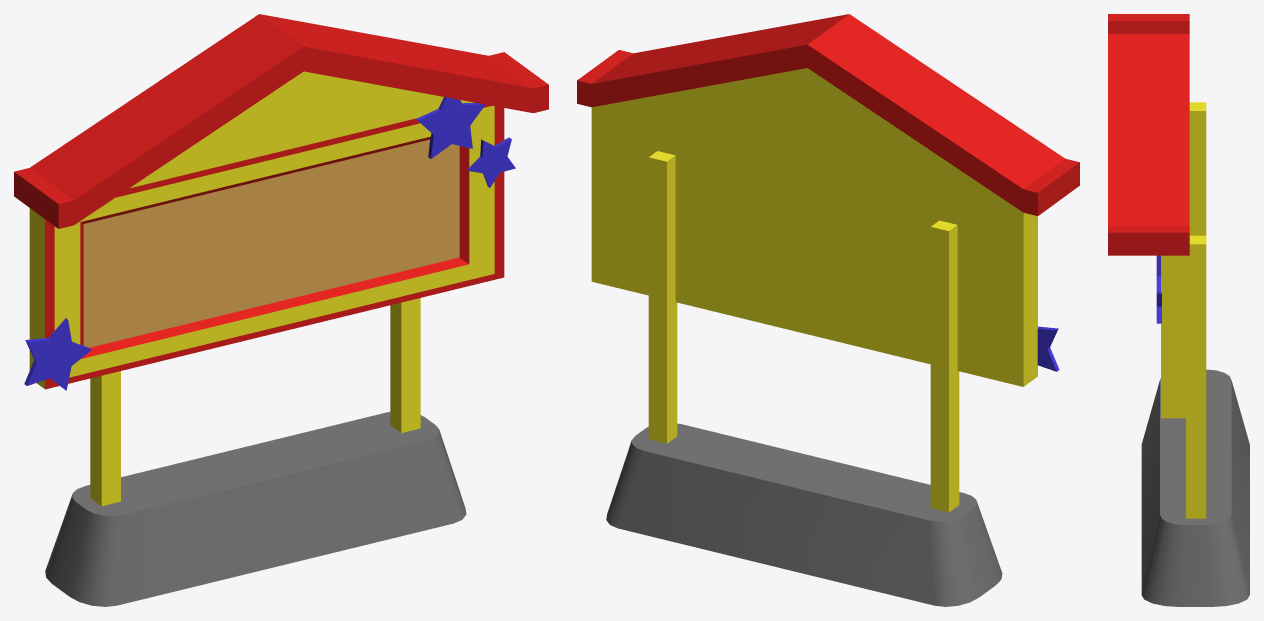
Rendered from announcementBoard.fbx.
The picture shows the model from 3 angles, left to right: view 1: azimuth 30°, elevation 25°; view 2: azimuth 150°, elevation 25°; view 3: azimuth 270°, elevation 25°; orthographic projection. The views are drawn at different scales.
Parts seen in each view (by area): view 1: Announcement Board; view 2: Announcement Board; view 3: Announcement Board.
Part boxes in pixels (box(x1,y1,x2,y2)): Announcement Board: box(14, 14, 548, 606); Announcement Board: box(577, 14, 1079, 606); Announcement Board: box(1108, 14, 1249, 606).
Size of the model in its own units: 215 by 58.44 by 221.
